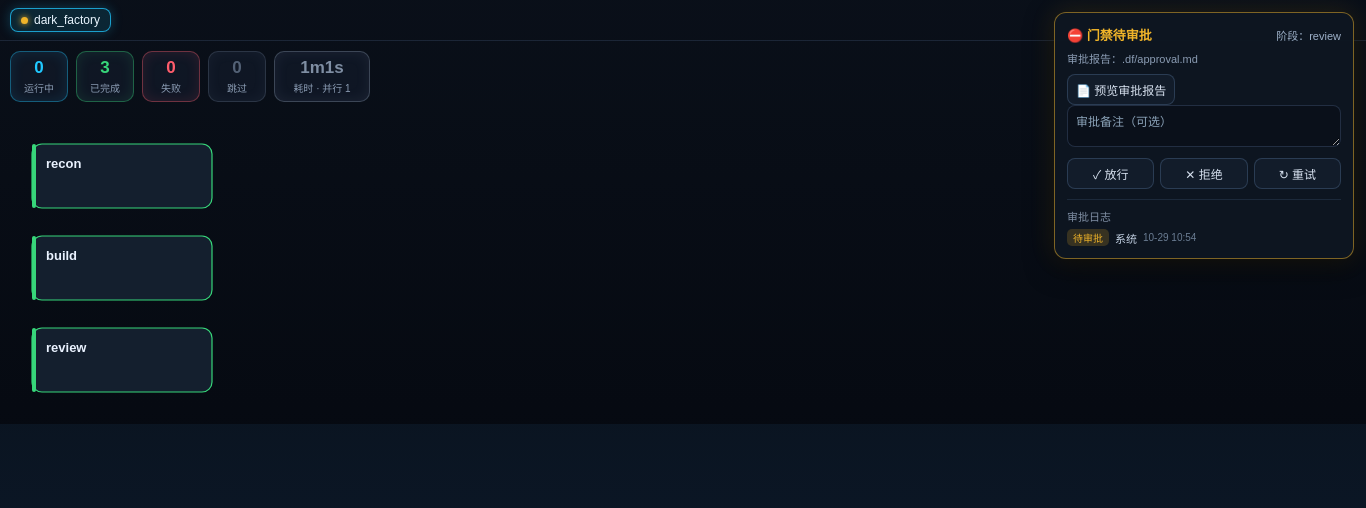
it: OrchestrationView 审批报告预览 › 读取失败时展示错误信息
Step 1. Click the button with class "is-preview" → [1121, 90], box [1067,74,1175,105]
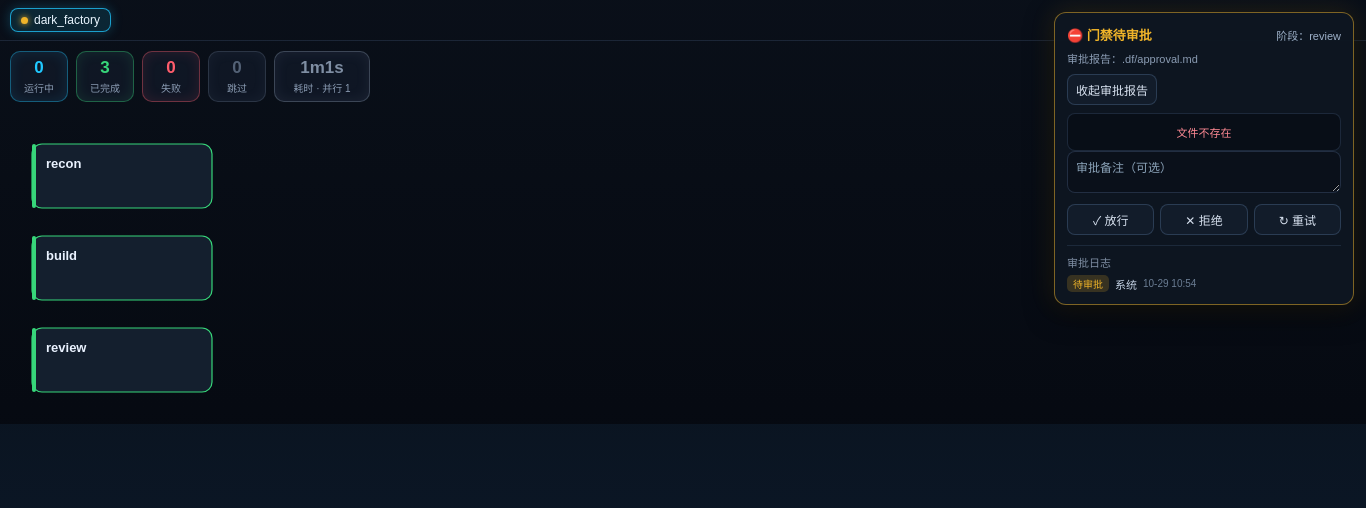
Expected: the text with class "is-err" reads "文件不存在", [1176,127,1232,139]
